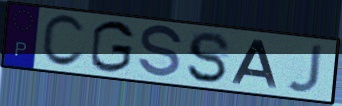A: (229, 38, 280, 91)
C: (39, 13, 88, 69)
G: (88, 19, 136, 75)
J: (285, 43, 325, 95)
S: (135, 23, 185, 81), (185, 30, 233, 85)
